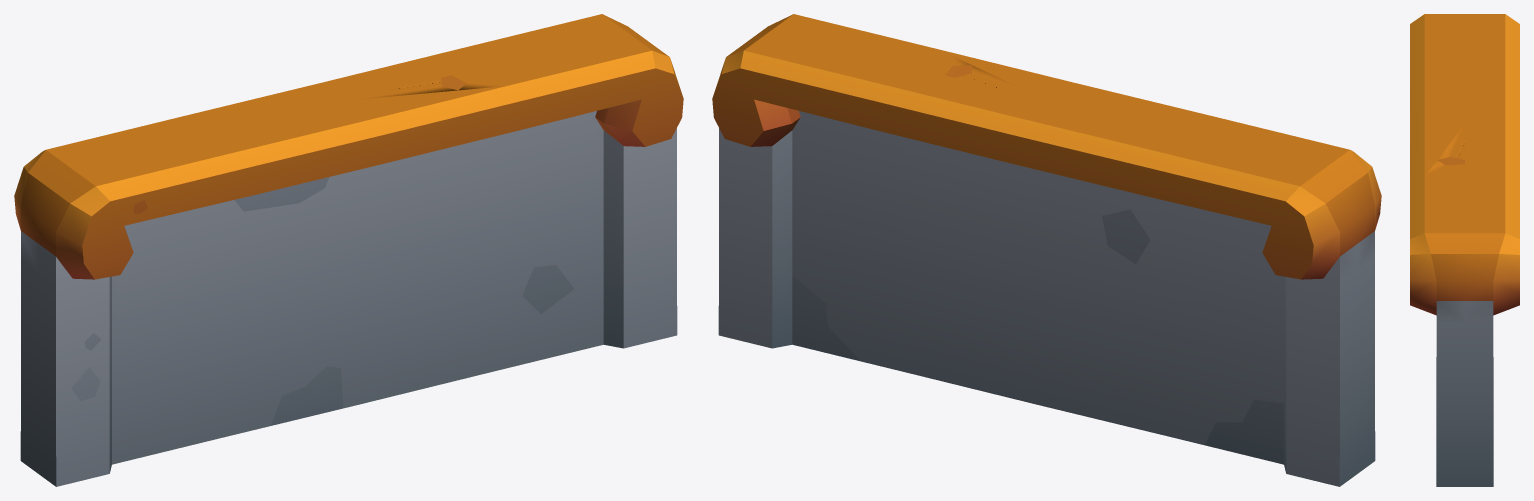
Rendered from stonewall_3.glb.
3 views of the same model, side by side, from view 1: azimuth 30°, elevation 25°; view 2: azimuth 150°, elevation 25°; view 3: azimuth 270°, elevation 25° (orthographic). The views are drawn at different scales.
Visible parts, largest first — view 1: stonewall_3; view 2: stonewall_3; view 3: stonewall_3.
Boxes of the visible parts, x1=… form: stonewall_3: x1=14, y1=14, x2=683, y2=486; stonewall_3: x1=712, y1=14, x2=1381, y2=486; stonewall_3: x1=1410, y1=14, x2=1519, y2=486.
Size of the model in its own units: 3.31 by 1.52 by 0.6268.
1 material, 1 textured.
